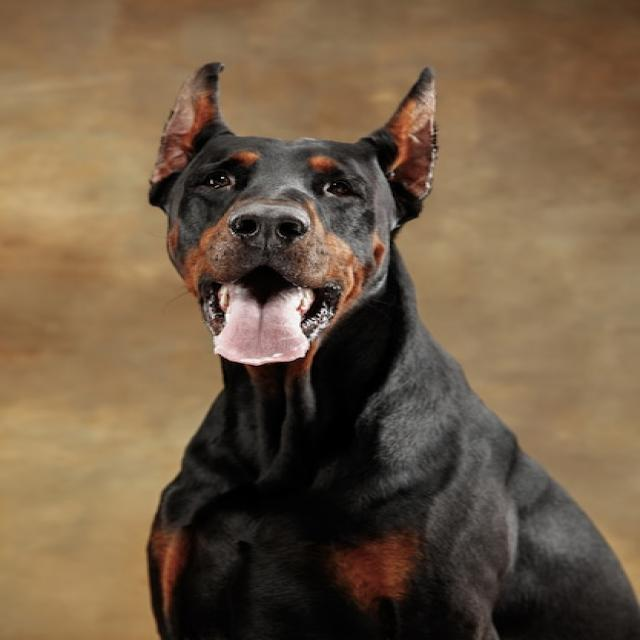Dog: (142, 62, 640, 639)
